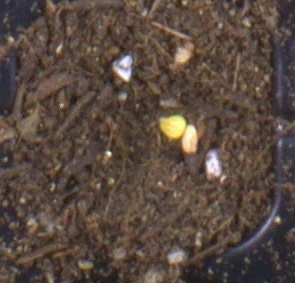chilli seed: (157, 114, 186, 140)
